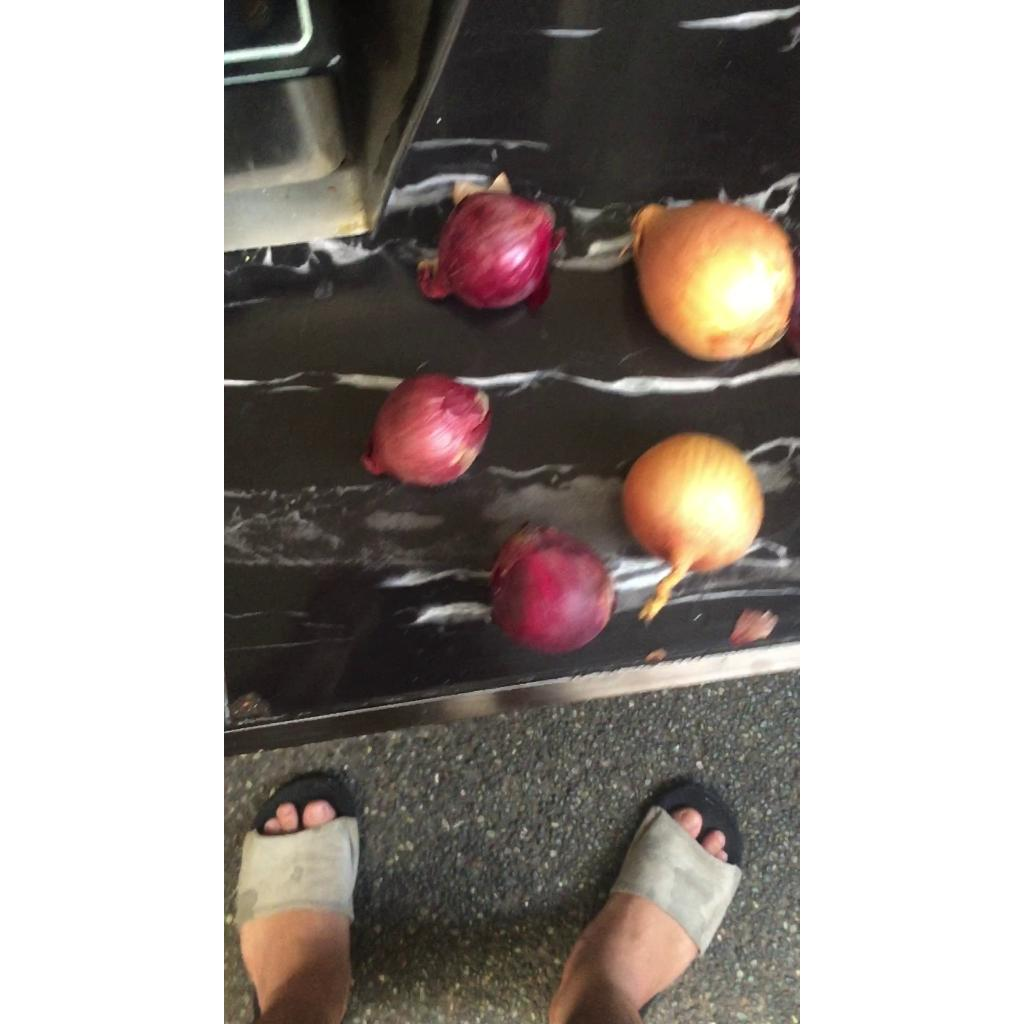Onion: (622, 433, 764, 622), (632, 199, 796, 360), (417, 172, 559, 308), (489, 526, 615, 654), (359, 374, 491, 487)
